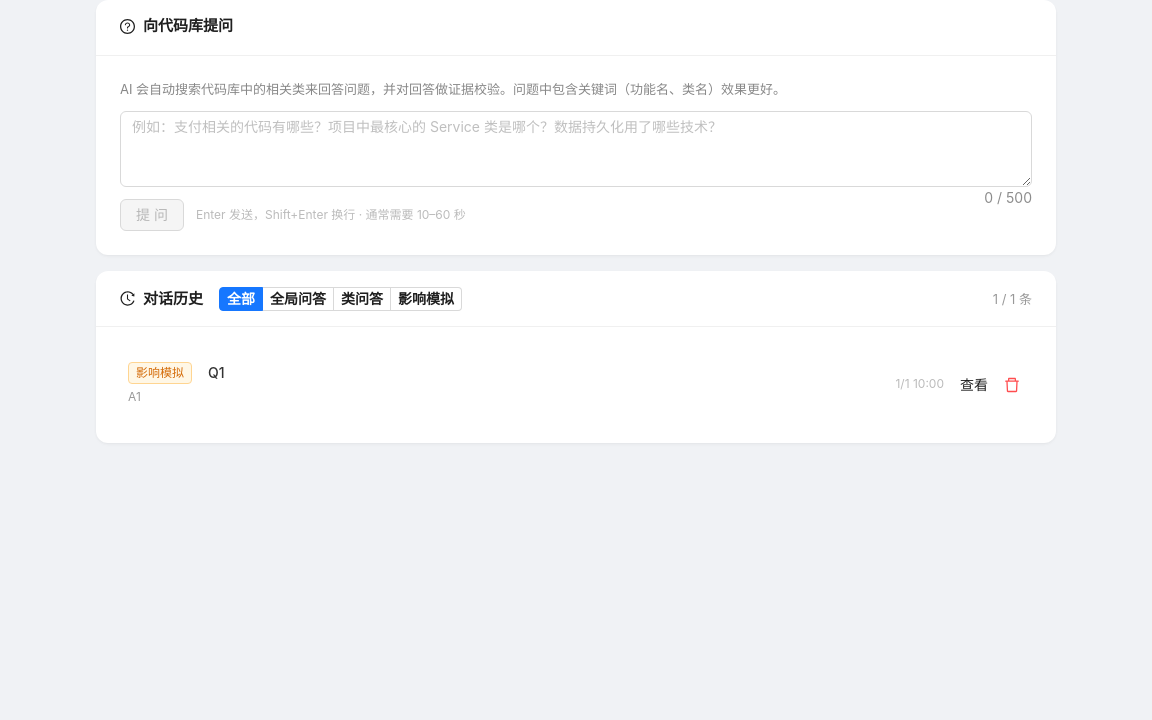
ProjectInsights › detailModal_whenImpactSnapshotInvalid_shouldHideSnapshot
Click the element with class "history-item-main": (176, 383) [128,362,225,404]
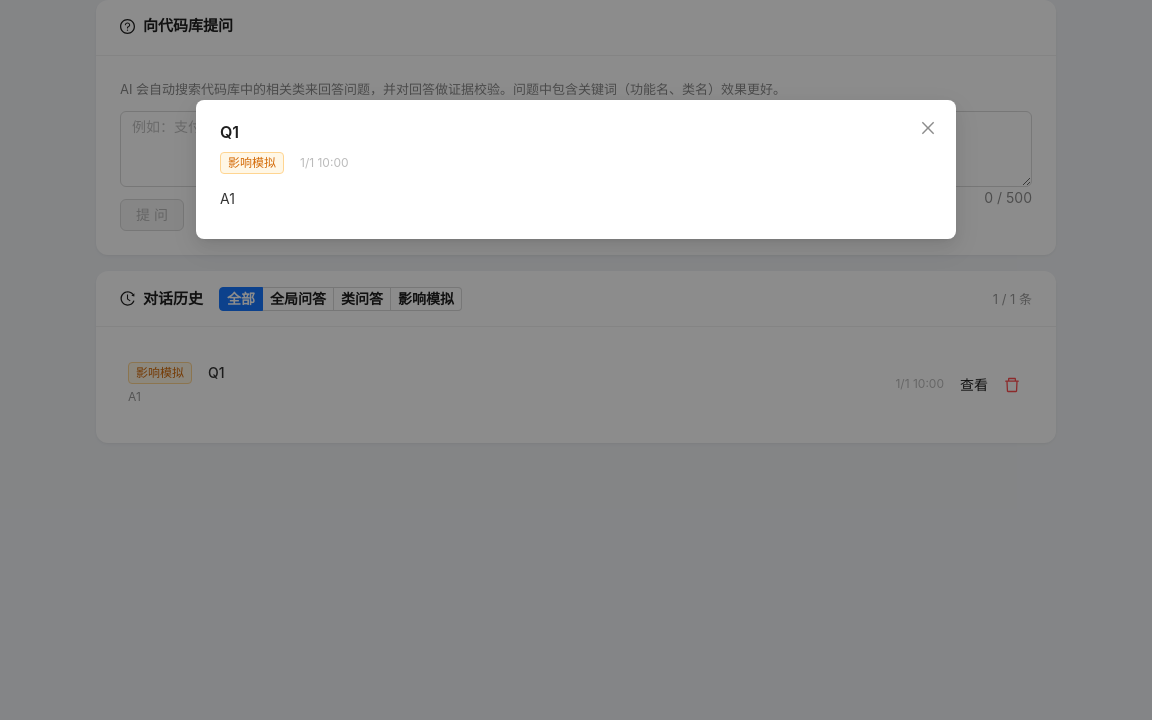
Result: the element with class "history-detail" is shown at [220,152,348,207]
